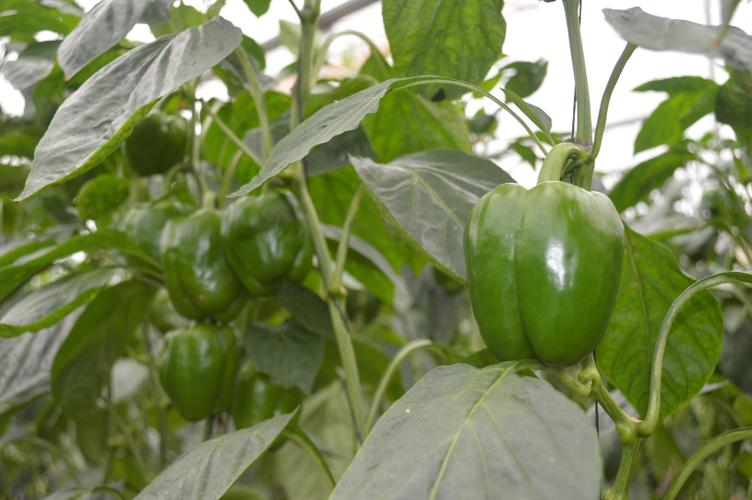BellPepper: (451, 169, 622, 376), (154, 212, 245, 323), (217, 194, 318, 289), (154, 324, 235, 423), (234, 356, 309, 440), (114, 106, 196, 182)
